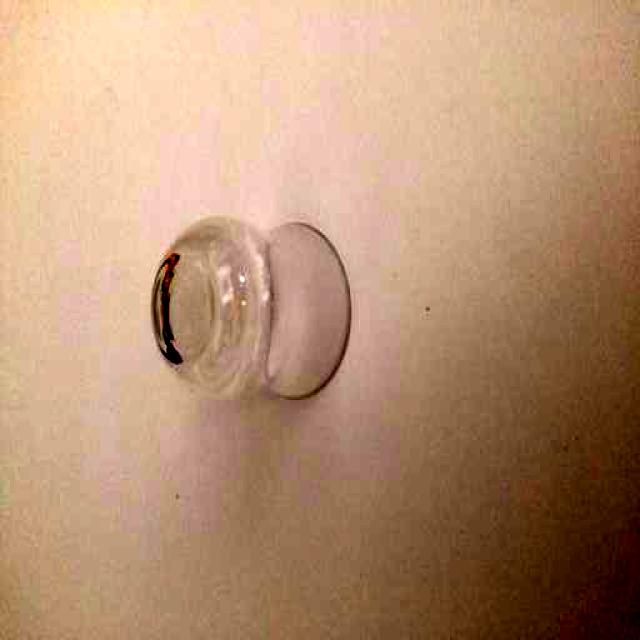Glass: (152, 219, 355, 405)
